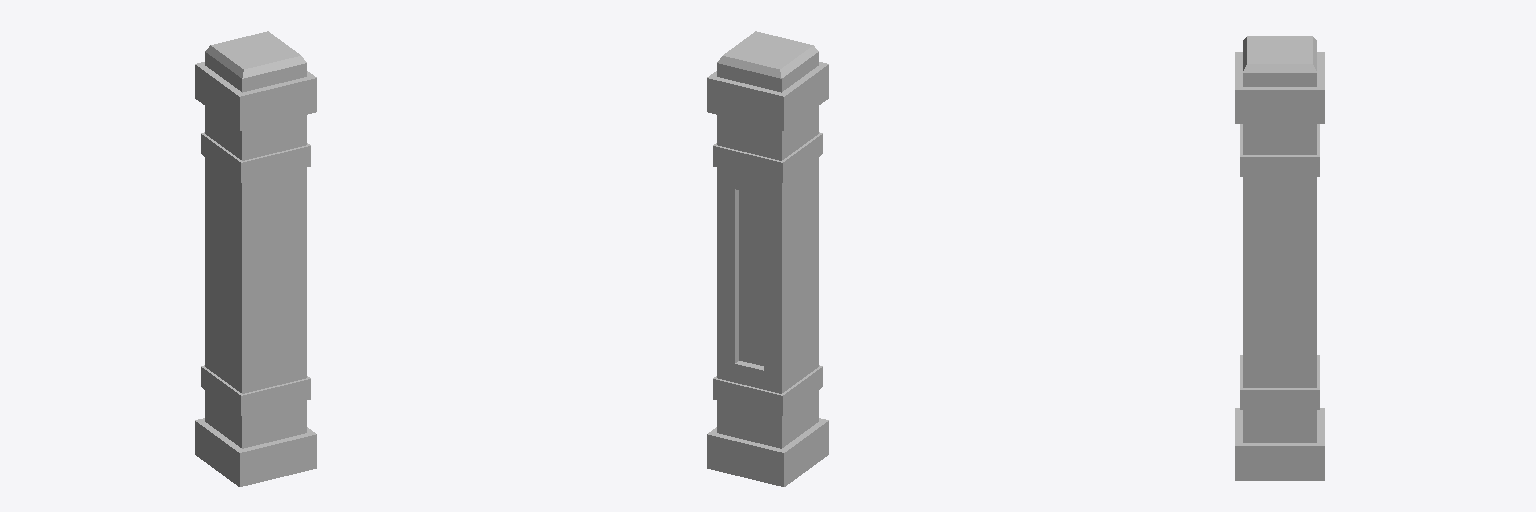
The model's file is pillarSquare.obj.
3 views of the same model, side by side, from view 1: azimuth 30°, elevation 25°; view 2: azimuth 150°, elevation 25°; view 3: azimuth 270°, elevation 25° (orthographic).
Parts seen in each view (by area): view 1: pillarSquare; view 2: pillarSquare; view 3: pillarSquare.
Boxes of the visible parts, x1,y1,x2,y2 form: pillarSquare: [195, 31, 316, 486]; pillarSquare: [707, 31, 828, 486]; pillarSquare: [1235, 36, 1324, 480].
Bounding box in the file's own units: 2.06 × 10.44 × 2.06.